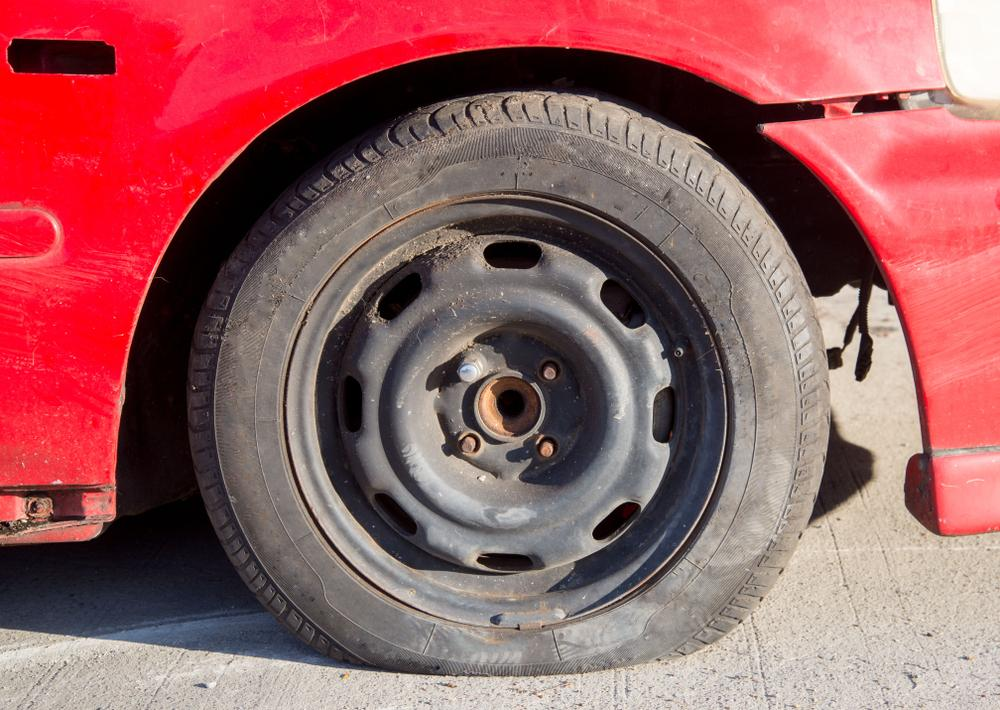tire flat: (185, 86, 832, 674)
